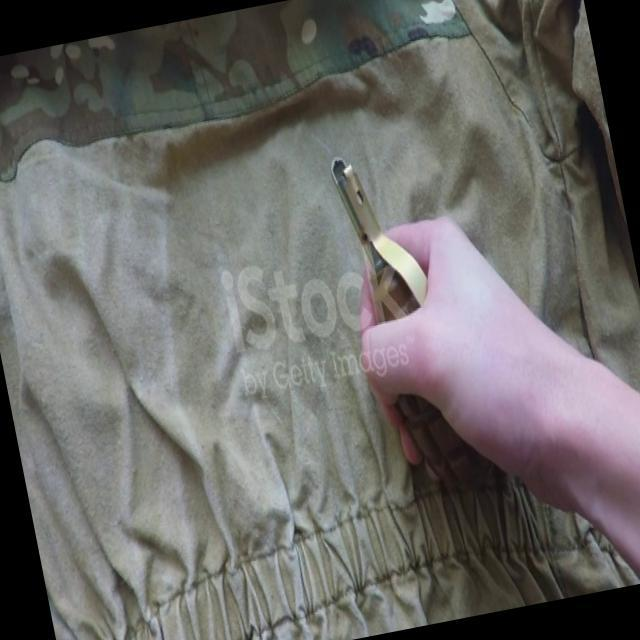grenade: (326, 135, 498, 513)
